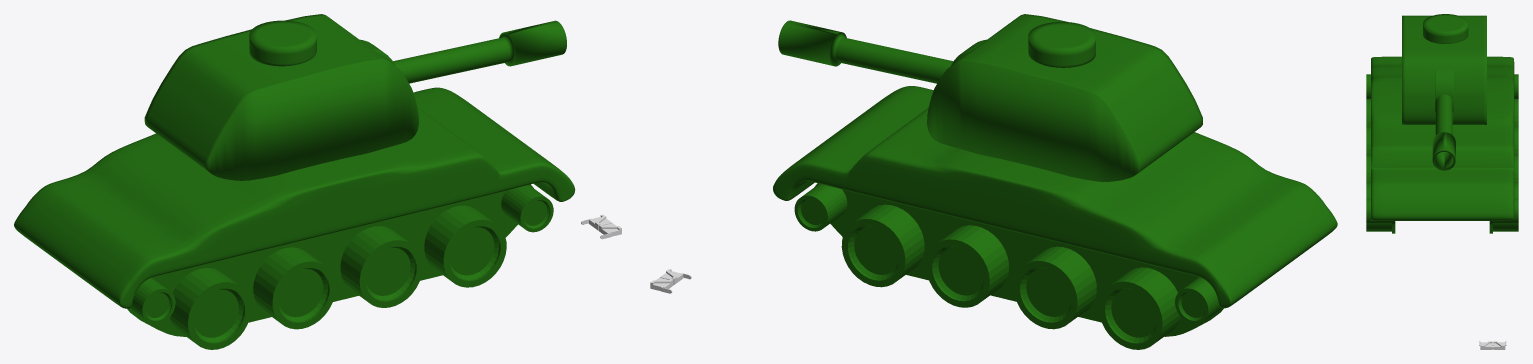
The model's file is PlayerModel_6.fbx.
The picture shows the model from 3 angles, left to right: view 1: azimuth 30°, elevation 25°; view 2: azimuth 150°, elevation 25°; view 3: azimuth 270°, elevation 25°; orthographic projection. The views are drawn at different scales.
Parts seen in each view (by area): view 1: Cube.001, Cube.002; view 2: Cube.001, Cube.002; view 3: Cube.001, Cube.002.
Boxes of the visible parts, x1,y1,x2,y2 form: Cube.001: (14,87,575,349); Cube.002: (144,14,566,180); Cube.001: (773,86,1337,349); Cube.002: (778,14,1202,181); Cube.001: (1366,56,1518,233); Cube.002: (1402,14,1486,170).
Bounding box in the file's own units: 583 × 294 × 196.
